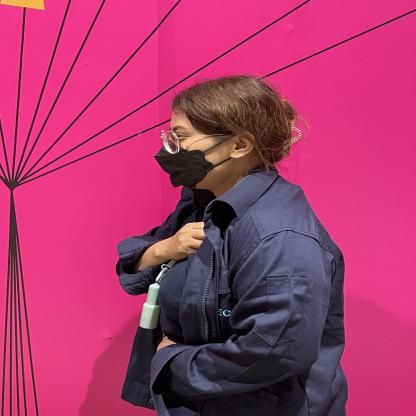Sadness: (113, 218, 237, 281)
